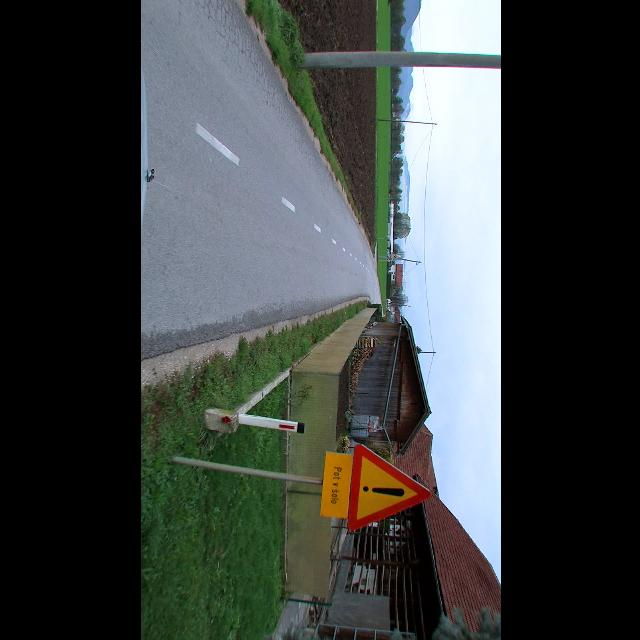Triangle: (344, 444, 432, 530)
